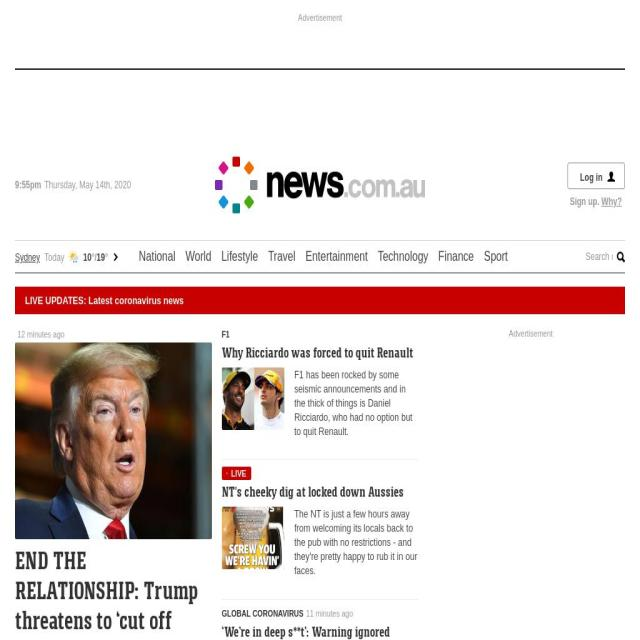button: (15, 343, 212, 539), (222, 367, 284, 431), (222, 507, 284, 570), (567, 162, 625, 189), (613, 241, 625, 272)
field: (585, 240, 640, 272)
heading: (15, 543, 198, 640), (25, 287, 615, 314), (215, 157, 425, 213), (221, 482, 404, 500), (221, 343, 413, 360), (221, 622, 390, 639), (15, 248, 41, 268)
image: (15, 343, 212, 539), (222, 367, 284, 431), (222, 507, 284, 570), (69, 250, 79, 263)
link: (305, 249, 367, 263), (221, 608, 304, 618), (378, 249, 428, 263), (138, 249, 176, 263), (221, 249, 259, 263), (438, 249, 474, 263), (268, 249, 296, 263), (570, 195, 602, 207), (185, 249, 211, 263), (484, 249, 508, 263), (602, 195, 622, 207), (222, 329, 230, 339)
text: (294, 508, 418, 578), (294, 368, 412, 438), (79, 179, 131, 191), (17, 329, 64, 339), (306, 608, 353, 618), (221, 467, 251, 481), (44, 179, 76, 191), (44, 252, 65, 264), (15, 179, 30, 191), (30, 179, 42, 191), (83, 252, 95, 263), (96, 252, 108, 263), (75, 179, 80, 191), (94, 252, 98, 263)
